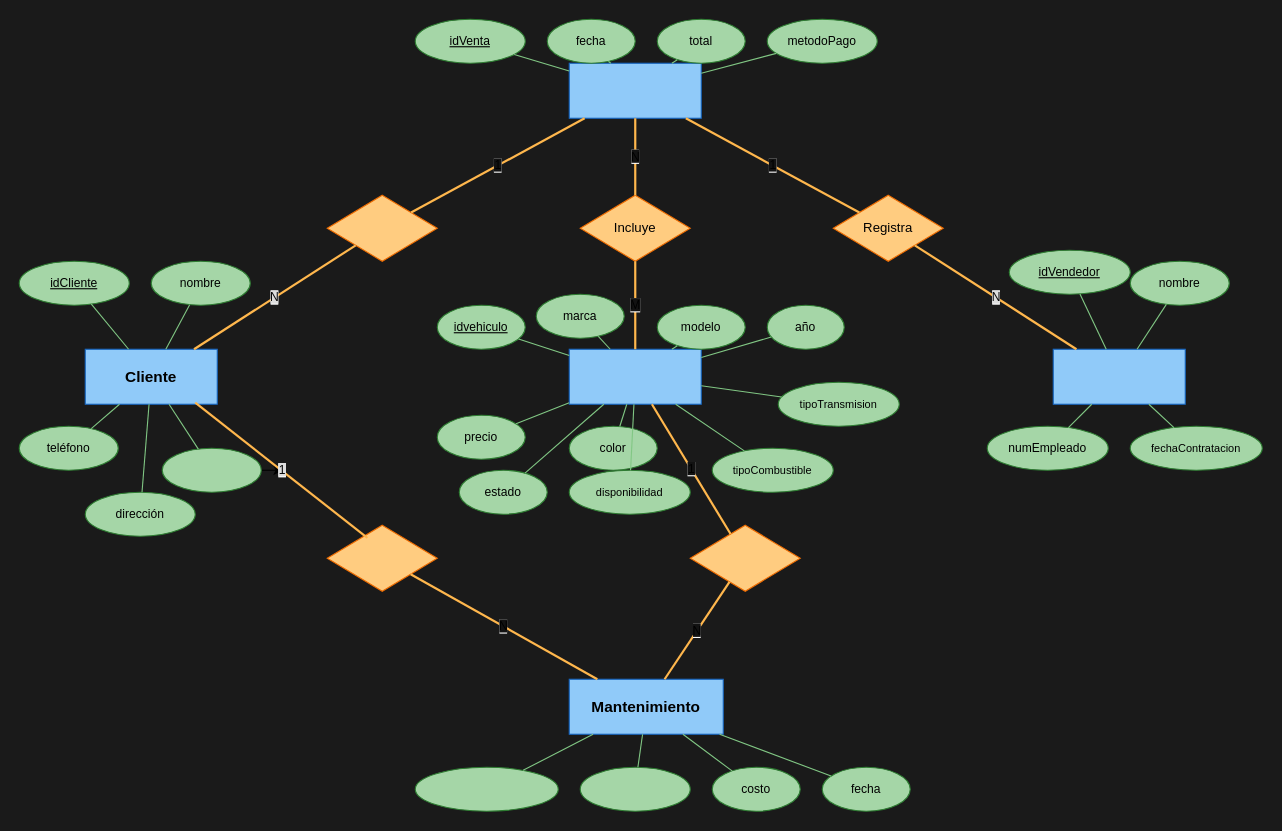
Some shapes in this 1282 by 831 pixel diagram are drawn without their labels. The shapes that lost their labels are listed below. From the top down, each one's centre as x and y in pixels, then its label:
At point (634, 90): "Venta".
At point (381, 227): "Realiza".
At point (634, 376): "Vehículo".
At point (1118, 376): "Vendedor".
At point (211, 469): "correo".
At point (381, 557): "Solicita".
At point (744, 557): "Recibe".
At point (486, 788): "idMantenimiento".
At point (634, 788): "tipoServicio".
